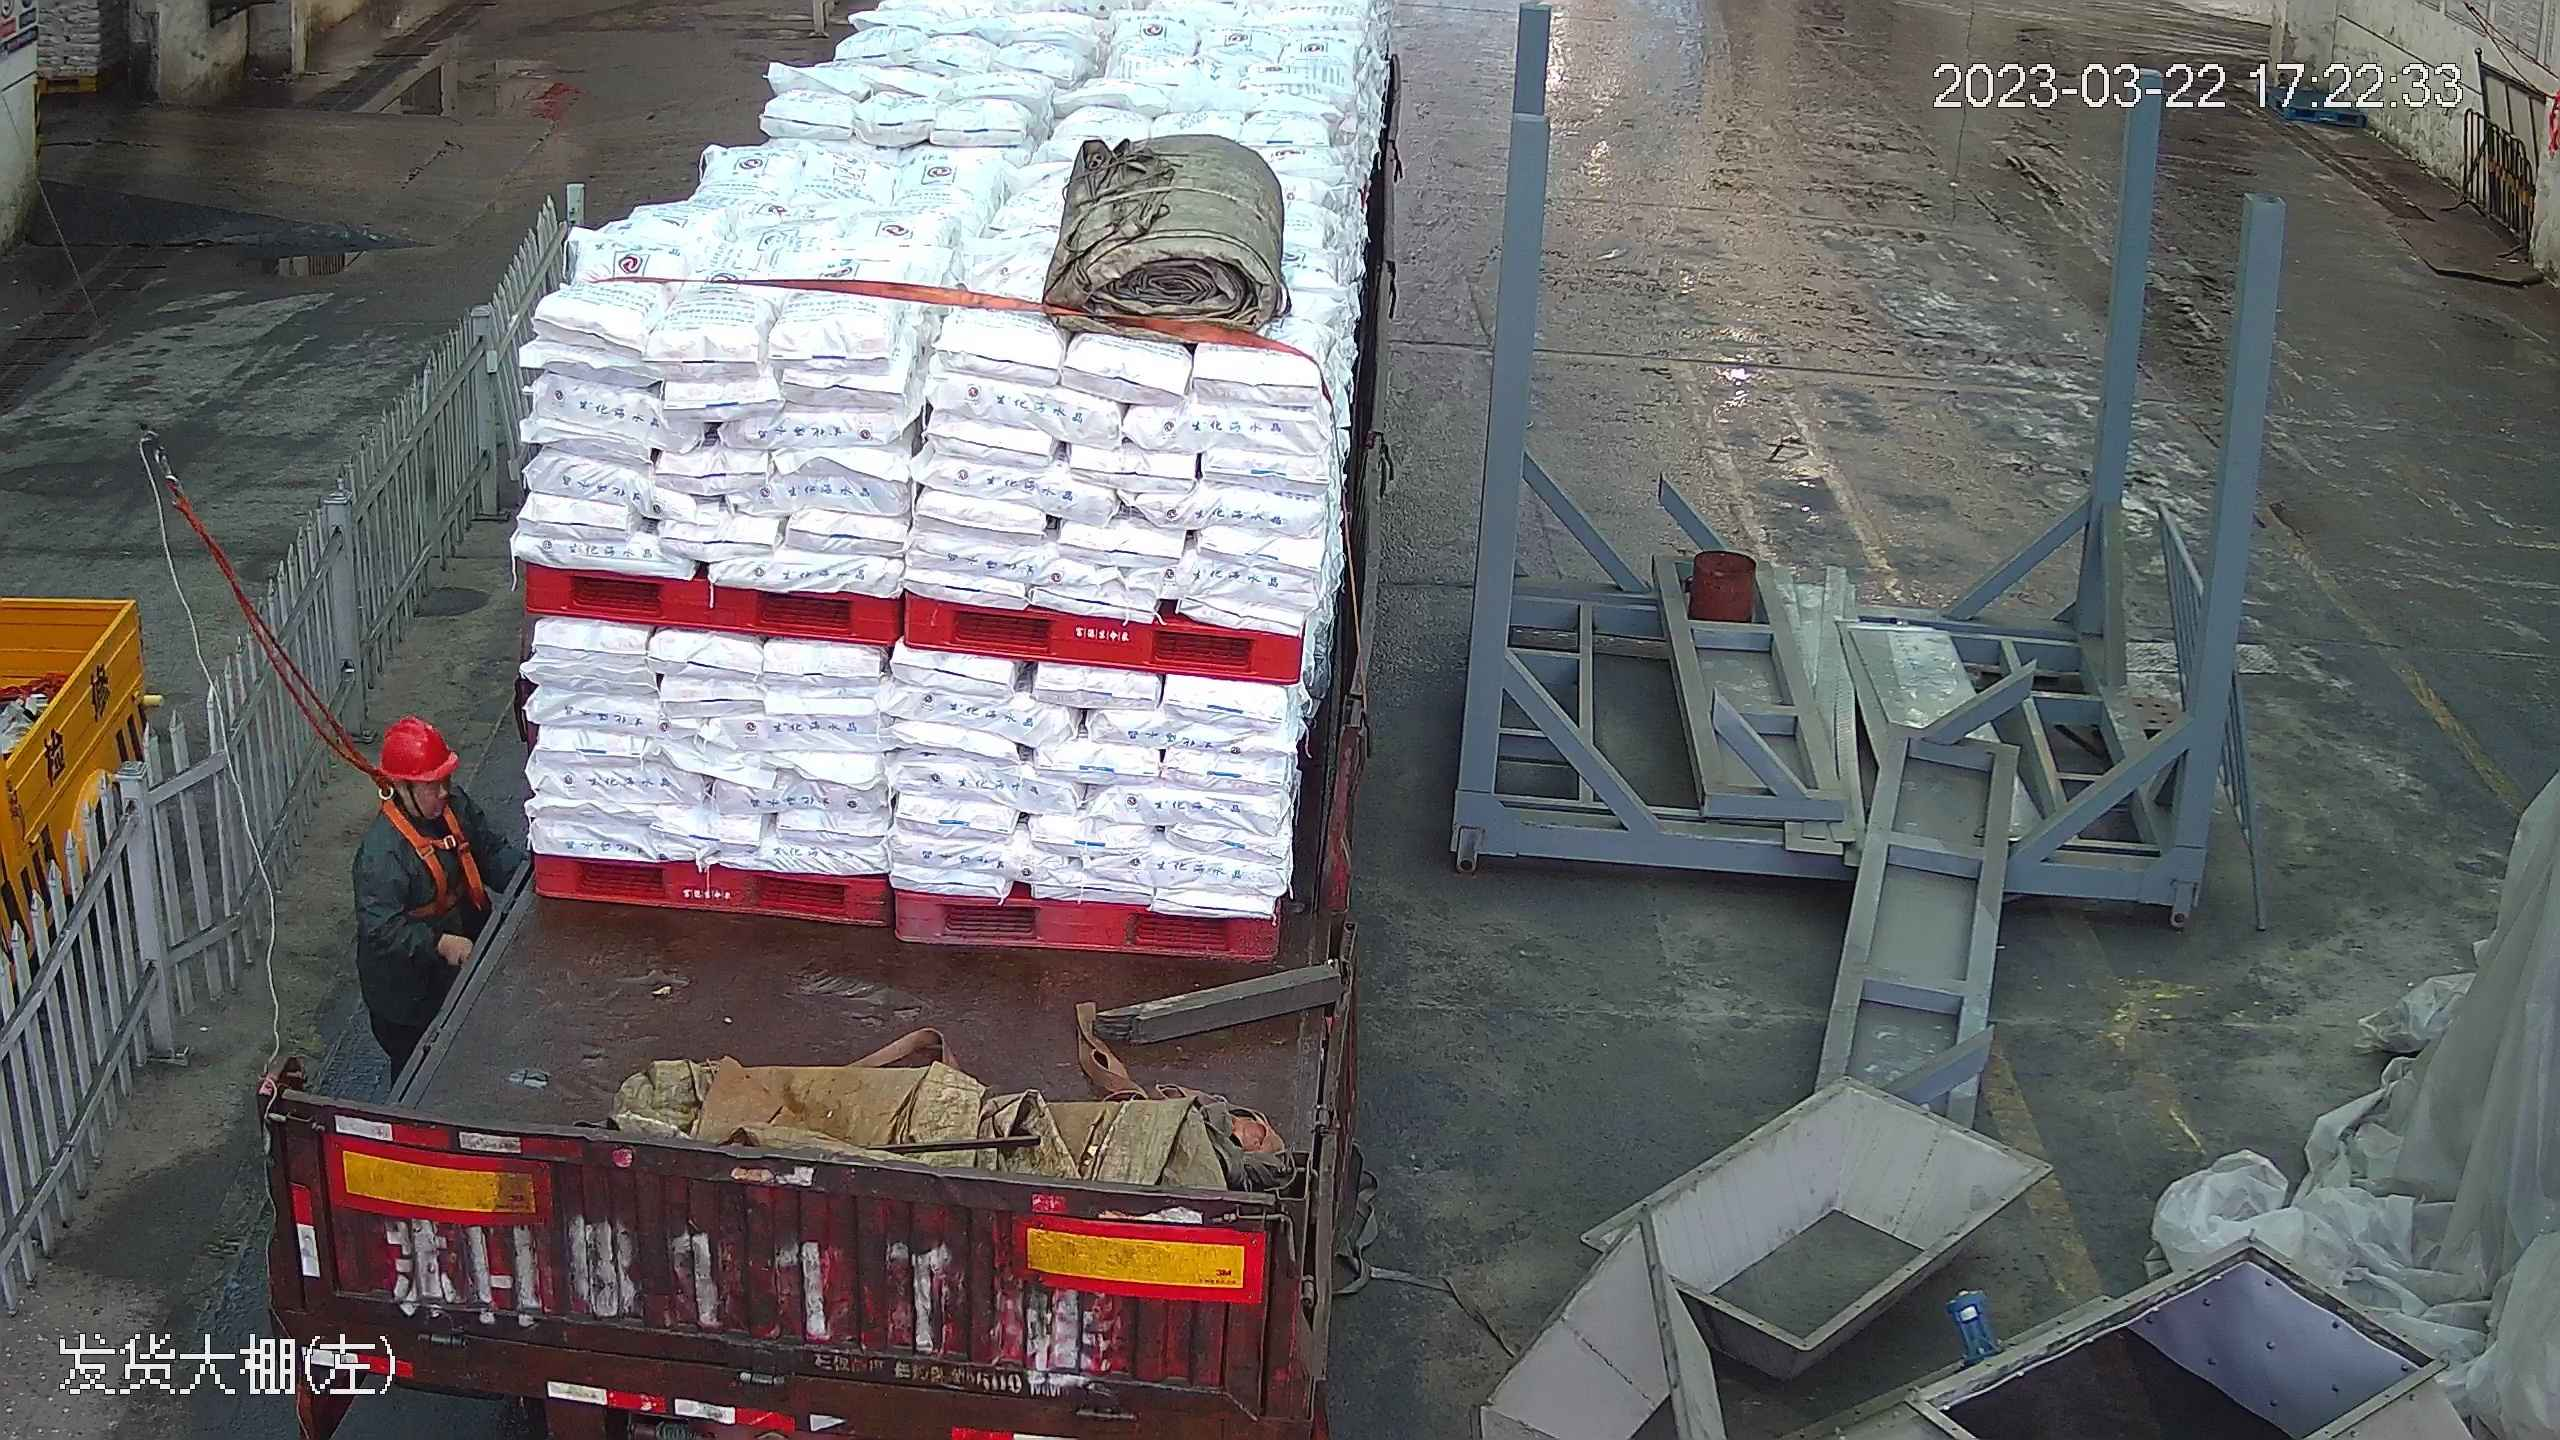belt: (380, 797, 483, 919)
head: (358, 710, 481, 871)
helmet: (374, 711, 459, 777)
people: (351, 714, 502, 1070)
truck: (320, 1, 1415, 1440)
